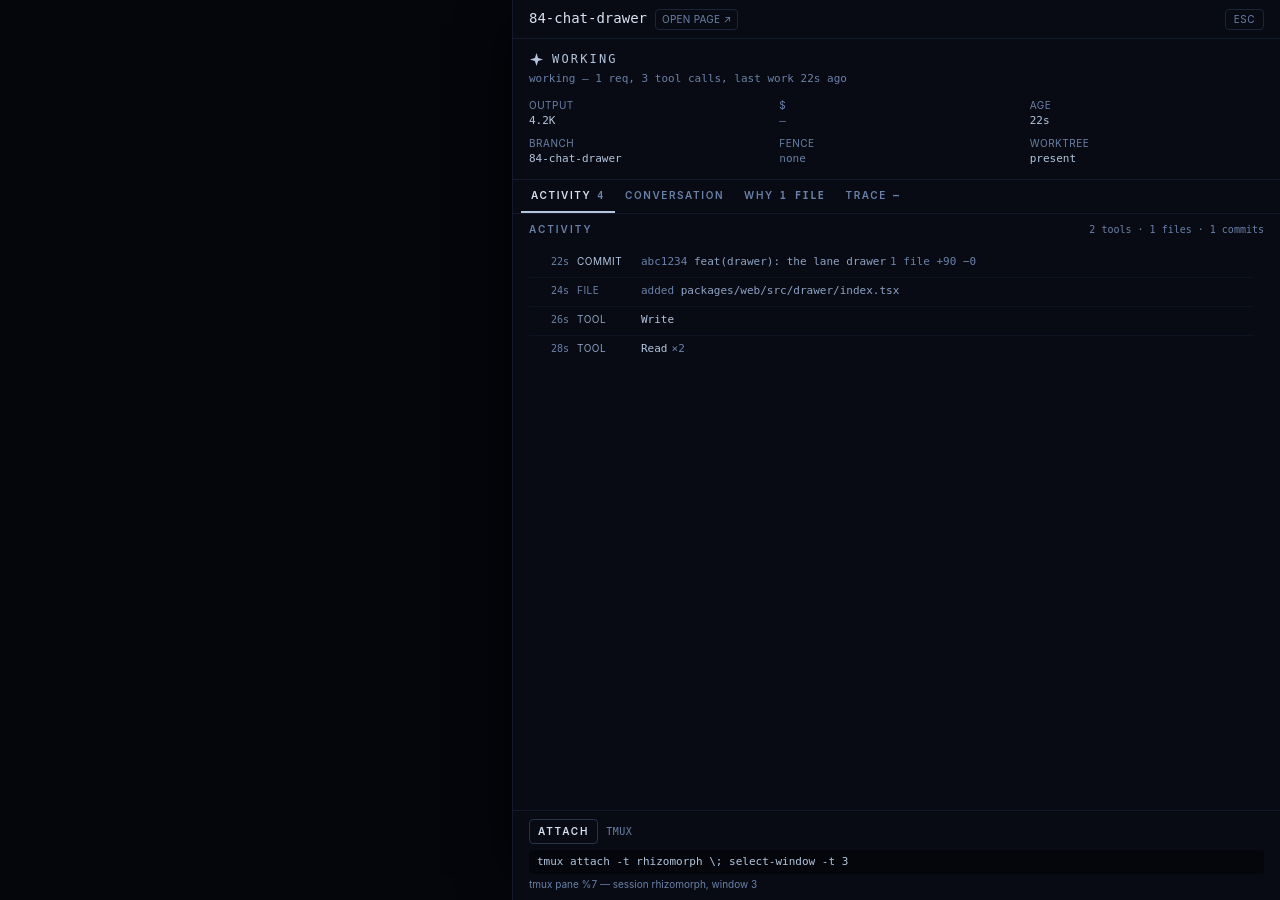
Test case: LaneDrawer — the activity view, in its own tab › is mounted by default (#164) — only one body renders at a time, and the other tabs are not it
Check: the element with test id "drawer-activity" is shown, box x1=529 y1=223 x2=1264 y2=362
Click the tab with test id "drawer-tab-conversation" at point(675, 197), box x1=615 y1=180 x2=734 y2=213
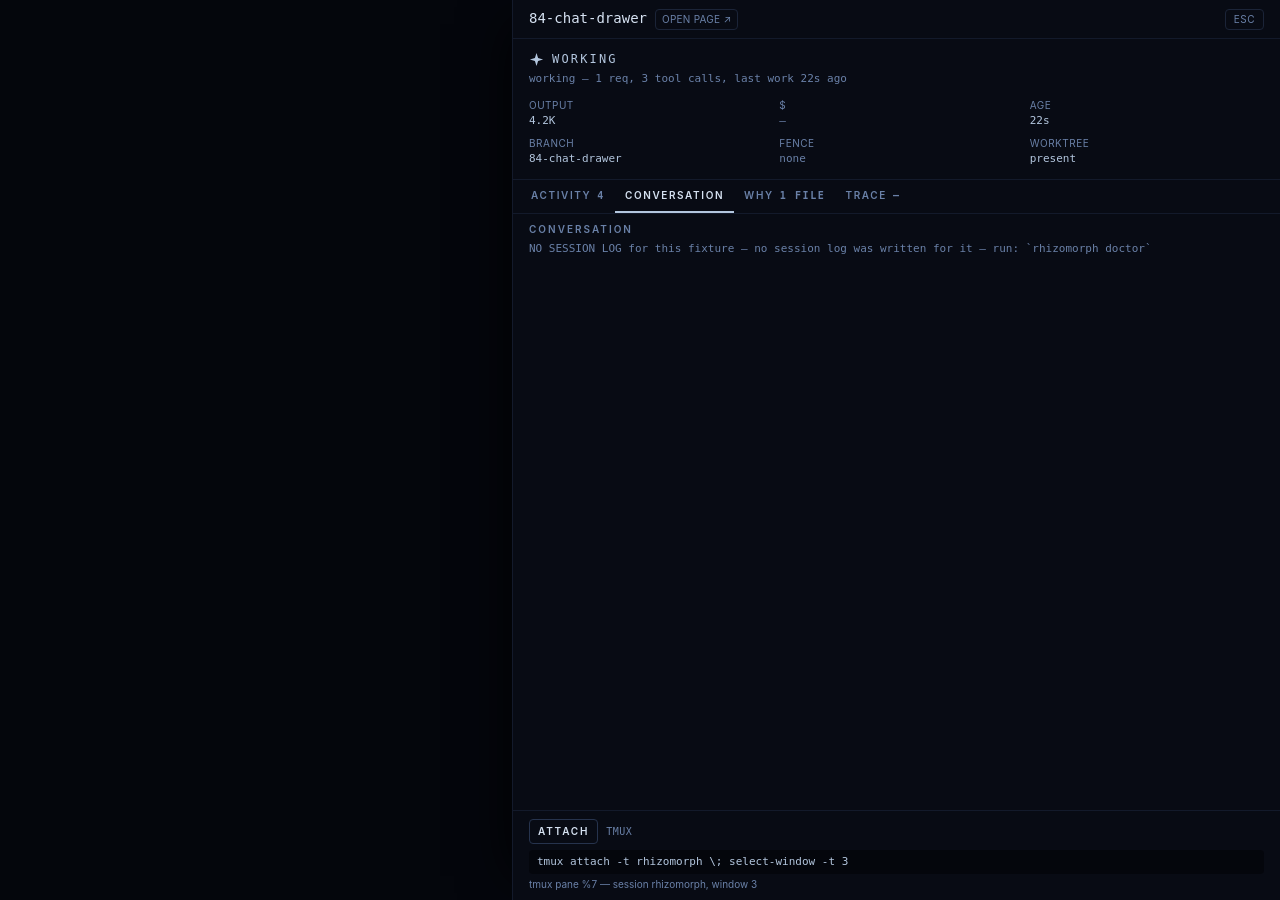
Check: the element with test id "drawer-activity" is gone
Check: the element with test id "drawer-conversation" is shown, box x1=529 y1=223 x2=1152 y2=255
